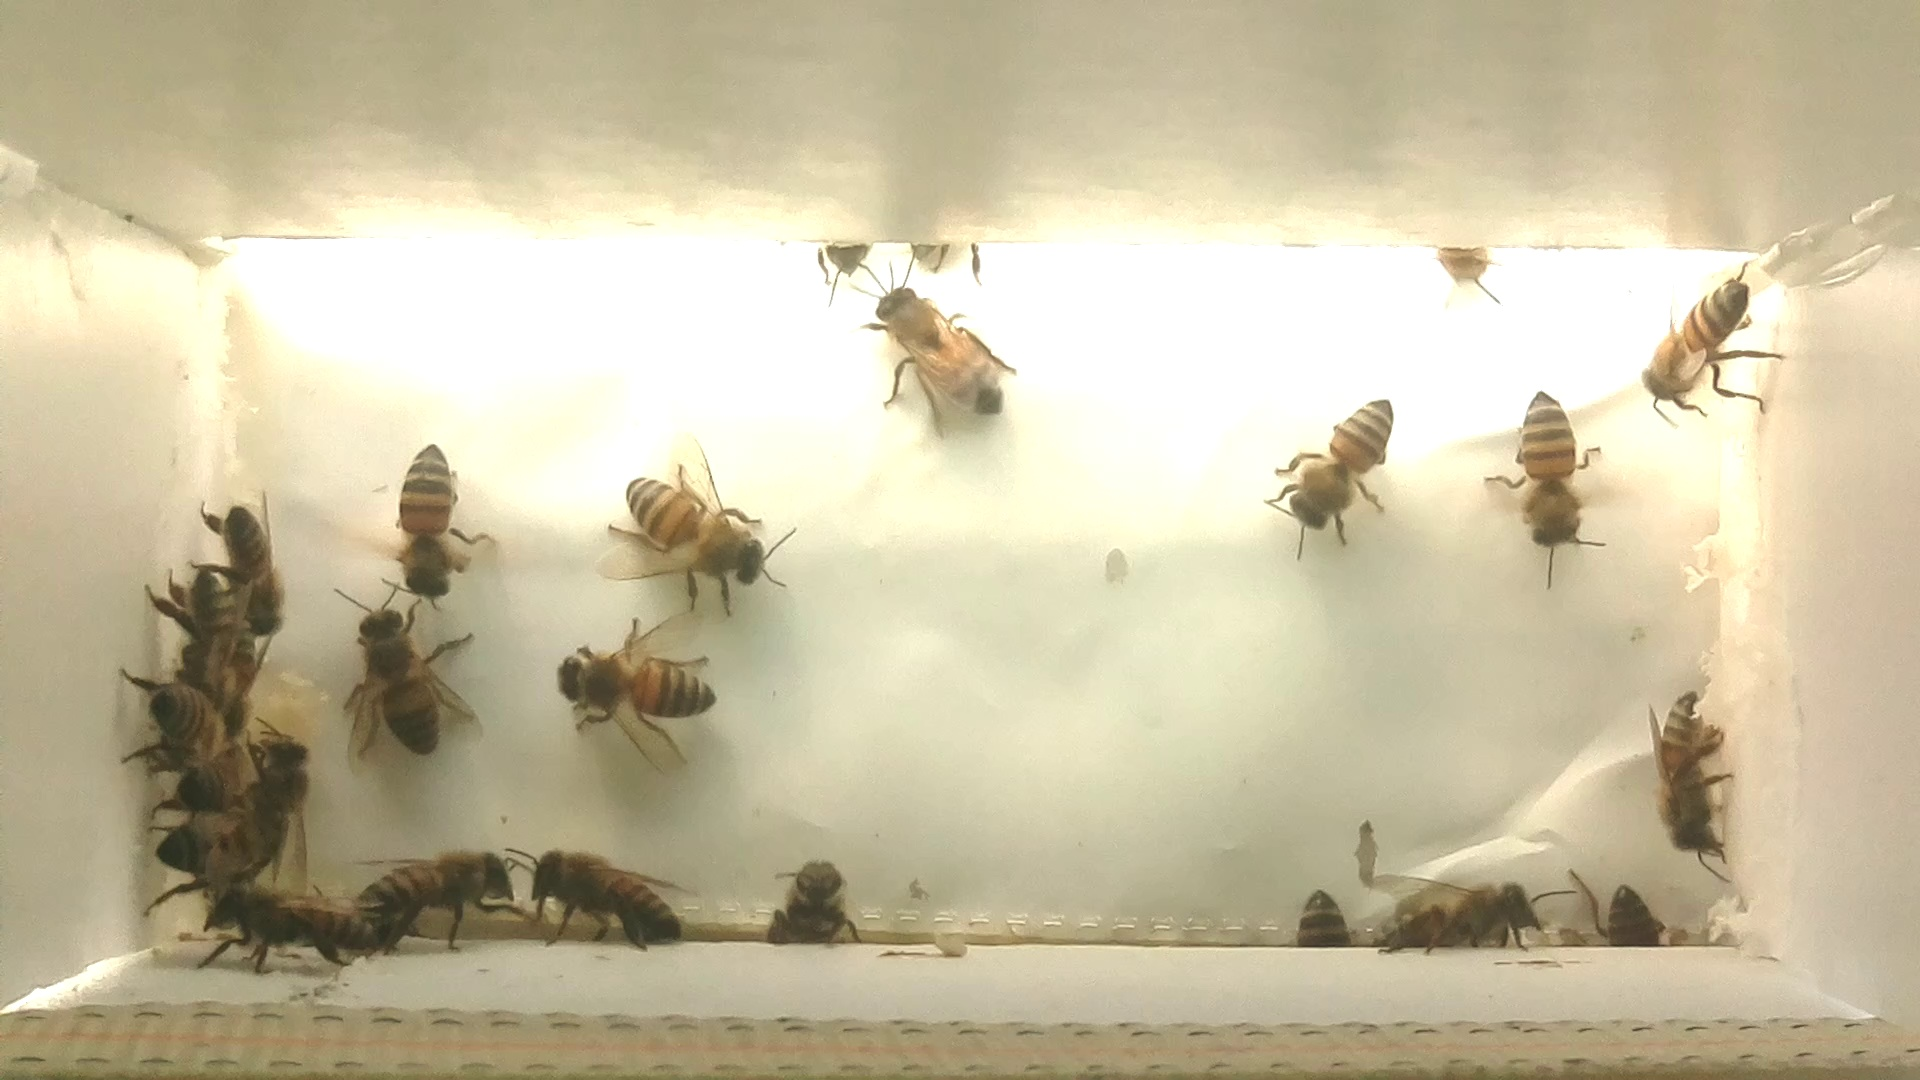bee: (592, 443, 811, 629), (541, 611, 742, 795), (1244, 375, 1422, 571), (322, 574, 497, 773), (844, 264, 1025, 454), (1478, 380, 1621, 589), (1634, 255, 1788, 436), (344, 436, 501, 615), (339, 828, 541, 961), (1633, 684, 1756, 886), (1371, 856, 1564, 978), (196, 485, 316, 665), (509, 839, 699, 949), (733, 840, 891, 971), (207, 884, 389, 994), (216, 711, 334, 869), (161, 564, 266, 720), (107, 655, 233, 771), (1557, 855, 1677, 976), (135, 789, 237, 909), (1279, 878, 1367, 975), (1423, 240, 1516, 326), (799, 229, 895, 309)
